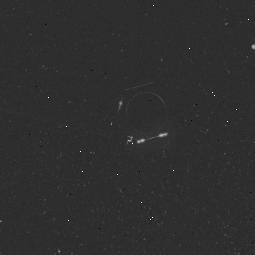earth_observation_sat_1: (103, 72, 181, 152)
